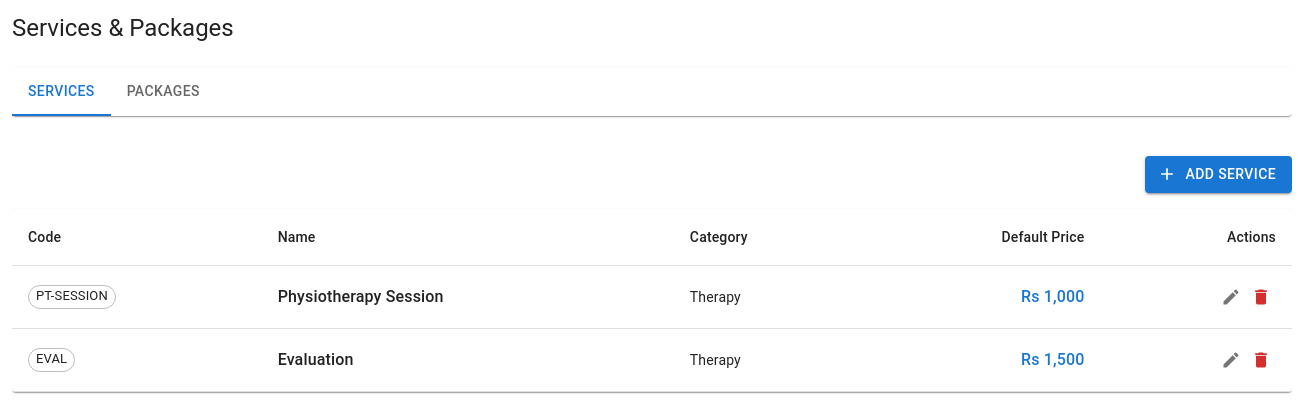
Scenario: Package Workflow Integration Tests › Package List Display › should display packages in the Packages tab
The width and height of the screenshot is (1304, 411).
// Click on Packages tab
Click the tab "Packages".
click(163, 92)  # box [111,68,216,116]
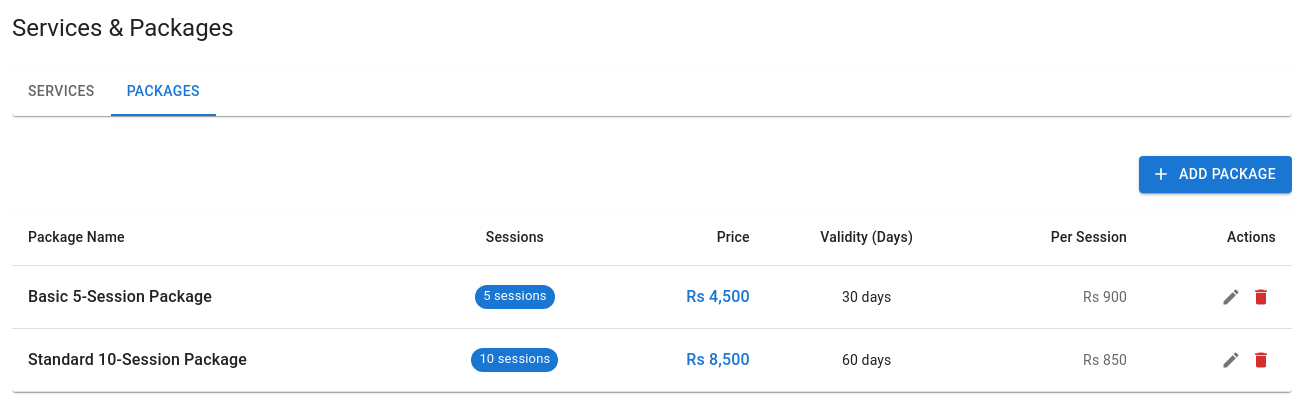
Expected: the text "Basic 5-Session Package" is shown, [28,286,212,306]
Expected: the text "Standard 10-Session Package" is shown, [28,350,247,368]
